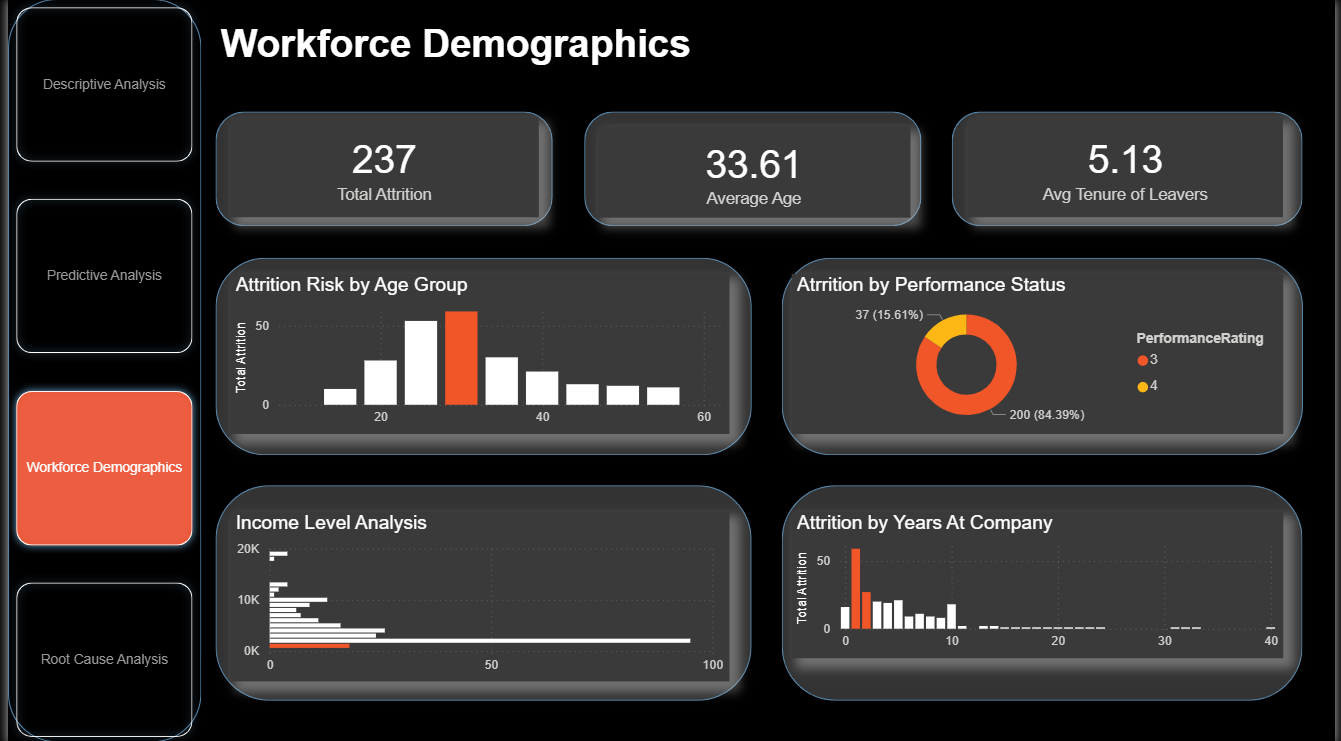

The dashboard page shown, as its layout file describes it:
{"tool":"powerbi","page":{"name":"Workforce Demographics","canvas":[1280,720],"ordinal":2},"visuals":[{"type":"textbox","box":[200,17.3,1049.3,66.7],"z":3000},{"type":"shape","box":[0,0,186.7,717.3],"z":5000},{"type":"shape","box":[200.3,249.7,517.6,190.6],"z":6000},{"type":"shape","box":[746.8,249.7,503.1,190.6],"z":7000},{"type":"donutChart","title":"Atrrition by Performance Status","fields":{"Y":["hr_project employee_data.Total Attrition"],"Category":["hr_project employee_data.PerformanceRating"]},"box":[756,265.3,474.7,154.7],"z":8000},{"type":"clusteredColumnChart","title":"Attrition Risk by Age Group","fields":{"Y":["hr_project employee_data.Total Attrition"],"Category":["hr_project employee_data.Age (bins)"]},"box":[214.7,265.4,481.4,154.4],"z":9000},{"type":"shape","box":[746.7,469.3,502.7,208],"z":9500},{"type":"shape","box":[200,469.3,517.3,208],"z":10000},{"type":"clusteredColumnChart","title":"Attrition by Years At Company","fields":{"Category":["hr_project employee_data.YearsAtCompany"],"Y":["hr_project employee_data.Total Attrition"]},"box":[756,494.7,474.7,141.3],"z":12000},{"type":"clusteredBarChart","title":"Income Level Analysis","fields":{"Y":["hr_project employee_data.Total Attrition"],"Category":["hr_project employee_data.MonthlyIncome (bins)"]},"box":[214.7,494.7,481.3,164],"z":13000},{"type":"shape","box":[200,108,325.3,110.7],"z":14000},{"type":"shape","box":[556,108,325.3,110.7],"z":15000},{"type":"shape","box":[910.7,108,338.7,110.7],"z":16000},{"type":"card","fields":{"Values":["Avg(hr_project employee_data.YearsAtCompany)"]},"box":[926.7,114.7,304,96],"z":16250},{"type":"card","fields":{"Values":["Avg(hr_project employee_data.Age)"]},"box":[569.3,122.7,301.3,88],"z":16500},{"type":"card","fields":{"Values":["hr_project employee_data.Total Attrition"]},"box":[214.7,114.7,297.3,96],"z":17000},{"type":"pageNavigator","box":[0,0,186.7,720],"z":17500}]}

Visuals, with their boxes in screenshot pixels (x1, y1, x2, y2), scaled from the page's 1280x720 canvas onto the 1341x741 screenshot:
textbox: (left=210, top=18, right=1309, bottom=86)
shape: (left=0, top=0, right=196, bottom=738)
shape: (left=210, top=257, right=752, bottom=453)
shape: (left=782, top=257, right=1309, bottom=453)
"Atrrition by Performance Status" donutChart: (left=792, top=273, right=1289, bottom=432)
"Attrition Risk by Age Group" clusteredColumnChart: (left=225, top=273, right=729, bottom=432)
shape: (left=782, top=483, right=1309, bottom=697)
shape: (left=210, top=483, right=751, bottom=697)
"Attrition by Years At Company" clusteredColumnChart: (left=792, top=509, right=1289, bottom=655)
"Income Level Analysis" clusteredBarChart: (left=225, top=509, right=729, bottom=678)
shape: (left=210, top=111, right=550, bottom=225)
shape: (left=582, top=111, right=923, bottom=225)
shape: (left=954, top=111, right=1309, bottom=225)
card - Avg(hr_project employee_data.YearsAtCompany): (left=971, top=118, right=1289, bottom=217)
card - Avg(hr_project employee_data.Age): (left=596, top=126, right=912, bottom=217)
card - hr_project employee_data.Total Attrition: (left=225, top=118, right=536, bottom=217)
pageNavigator: (left=0, top=0, right=196, bottom=740)
